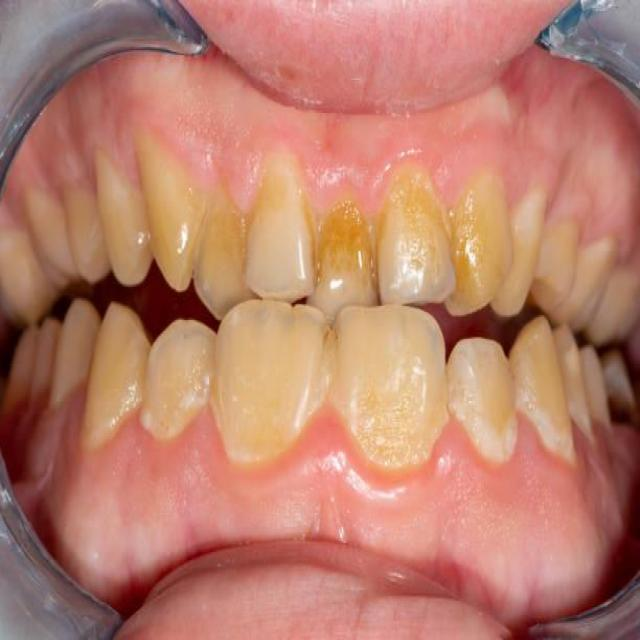redness: (301, 396, 353, 475), (467, 437, 522, 496)
swelling: (213, 150, 274, 222)
